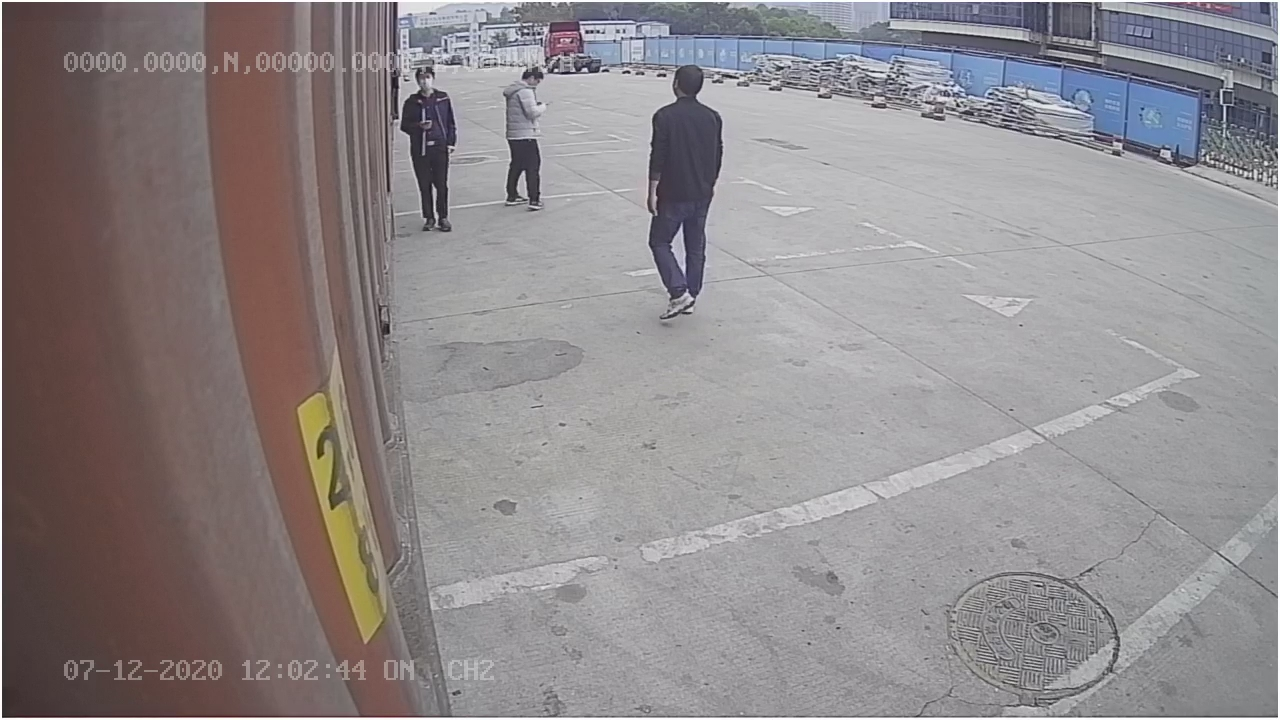person: (641, 62, 722, 322)
